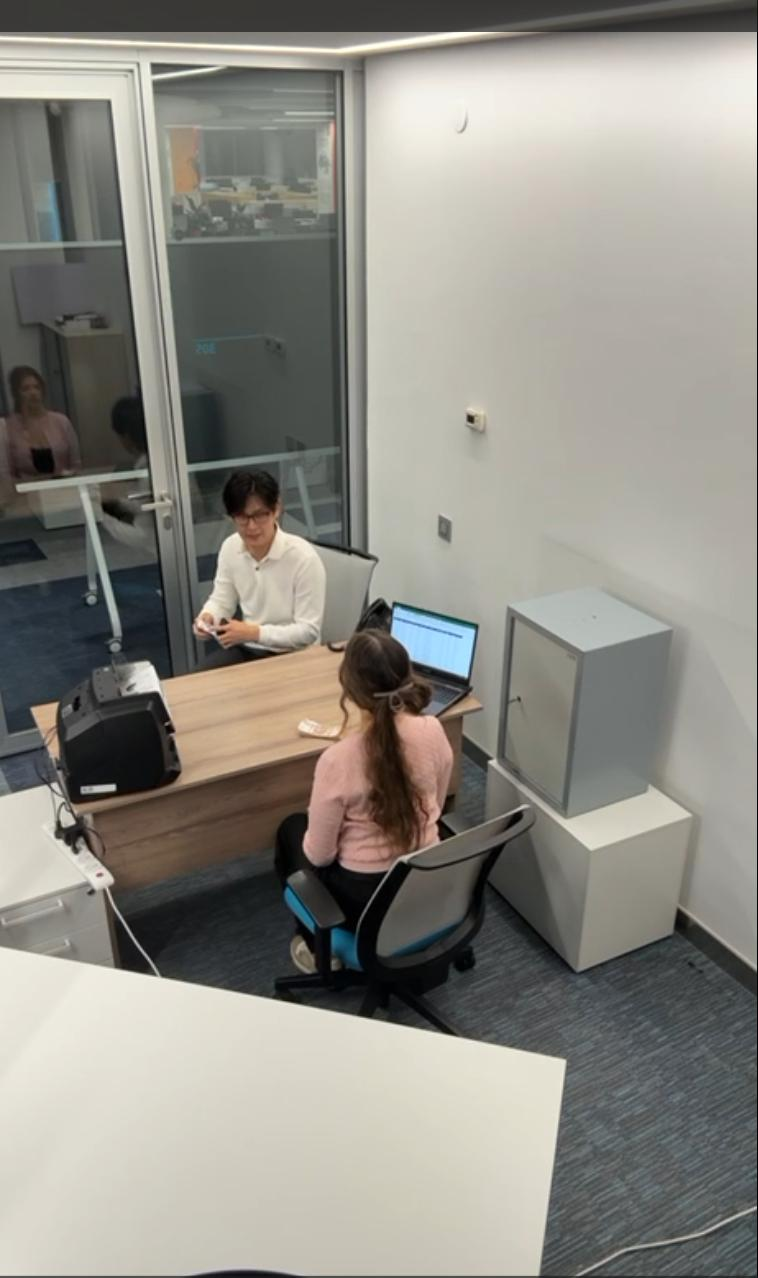cash_stack: (293, 713, 349, 740)
counter: (50, 672, 180, 801)
key_in: (508, 678, 530, 737)
screen_on: (394, 617, 476, 674)
